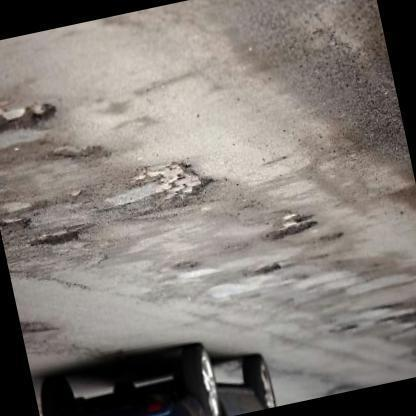pothole: (141, 154, 212, 202), (0, 99, 59, 132), (30, 220, 86, 252), (0, 195, 51, 230), (268, 210, 322, 243), (18, 318, 53, 336)
